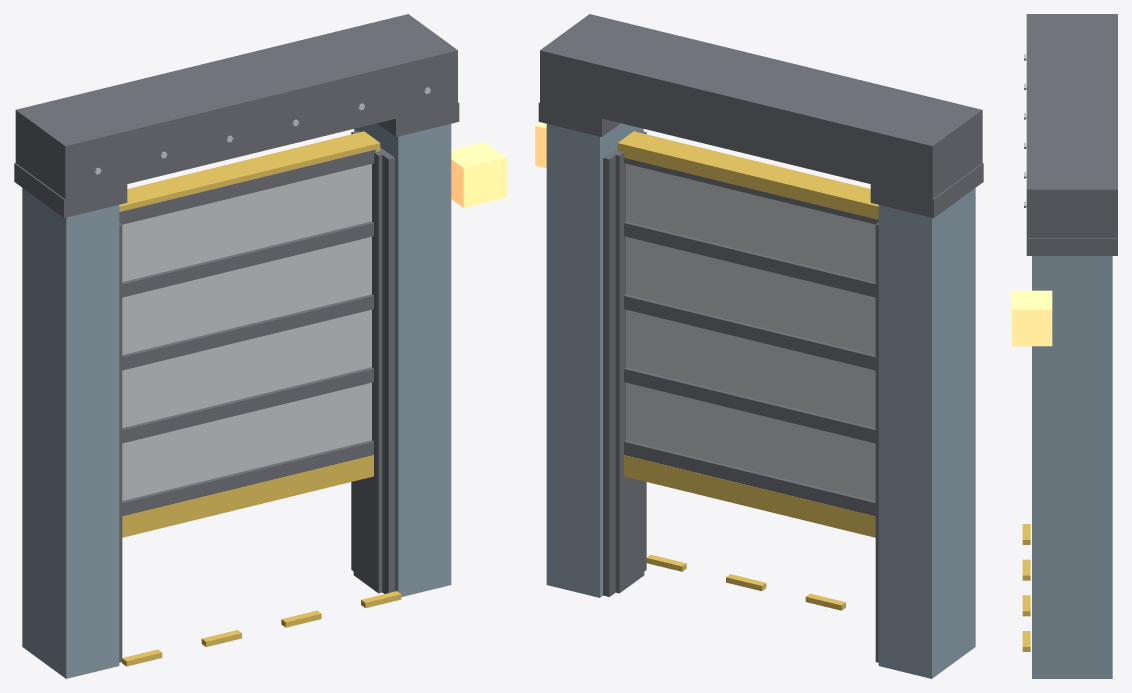
Rendered from animated-mechanisms-kit-falling-gate-21e46163__24657.glb.
The picture shows the model from 3 angles, left to right: view 1: azimuth 30°, elevation 25°; view 2: azimuth 150°, elevation 25°; view 3: azimuth 270°, elevation 25°; orthographic projection. The views are drawn at different scales.
Parts seen in each view (by area): view 1: falling-gate, gate/steel, gate/iron, gate/accent; view 2: falling-gate, gate/steel, gate/iron, gate/accent; view 3: falling-gate.
Boxes of the visible parts, x1,y1,x2,y2 form: falling-gate: (14,14,506,678); gate/steel: (122,164,371,500); gate/iron: (119,149,375,516); gate/accent: (119,131,380,537); falling-gate: (535,14,983,678); gate/steel: (626,163,875,500); gate/iron: (624,158,877,516); gate/accent: (617,131,878,537); falling-gate: (1012,14,1117,678).
Bounding box in the file's own units: 3.43 × 4.04 × 0.79.
